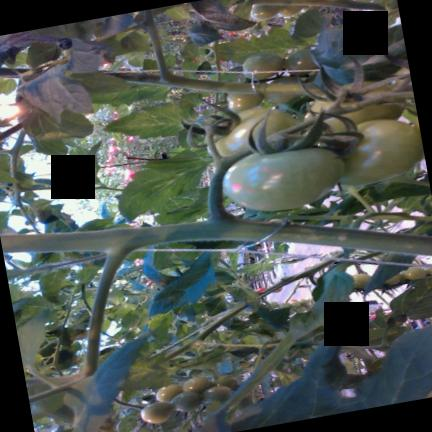6kp_peduncle: (169, 155, 268, 241)
6kp_petiole: (65, 223, 173, 310), (142, 38, 196, 87), (177, 329, 240, 351), (307, 0, 367, 8)
MainStem: (0, 219, 432, 254), (98, 69, 307, 94), (164, 304, 249, 362), (260, 259, 336, 296), (252, 0, 385, 10)
tomato: (223, 147, 344, 210), (339, 119, 422, 185), (306, 83, 403, 131), (216, 107, 298, 156), (243, 51, 283, 79), (264, 76, 299, 103), (284, 48, 317, 75), (226, 92, 263, 112), (140, 401, 172, 423), (171, 391, 201, 411), (202, 385, 232, 403), (250, 4, 281, 20), (156, 384, 182, 402), (182, 376, 210, 392), (403, 266, 427, 279), (278, 5, 302, 17), (300, 0, 324, 12), (217, 377, 238, 390), (352, 273, 371, 287), (384, 273, 404, 284), (427, 268, 432, 275)
